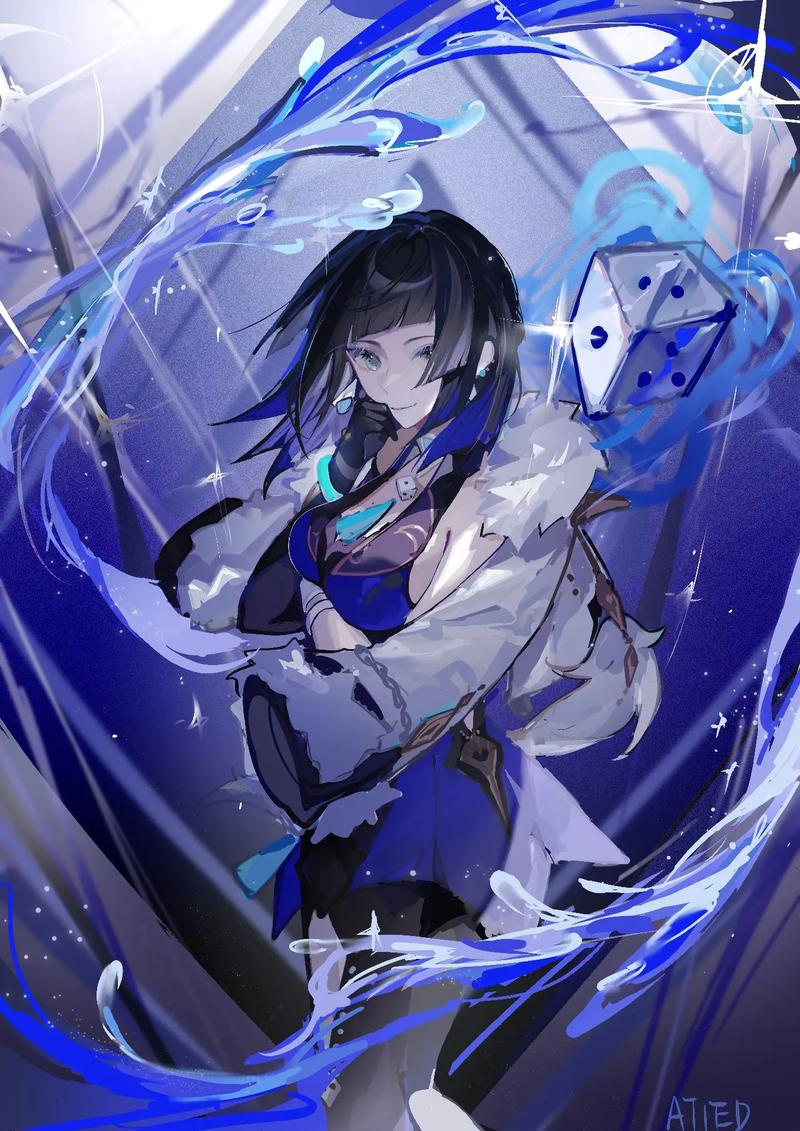夜兰: (235, 216, 530, 1131)
